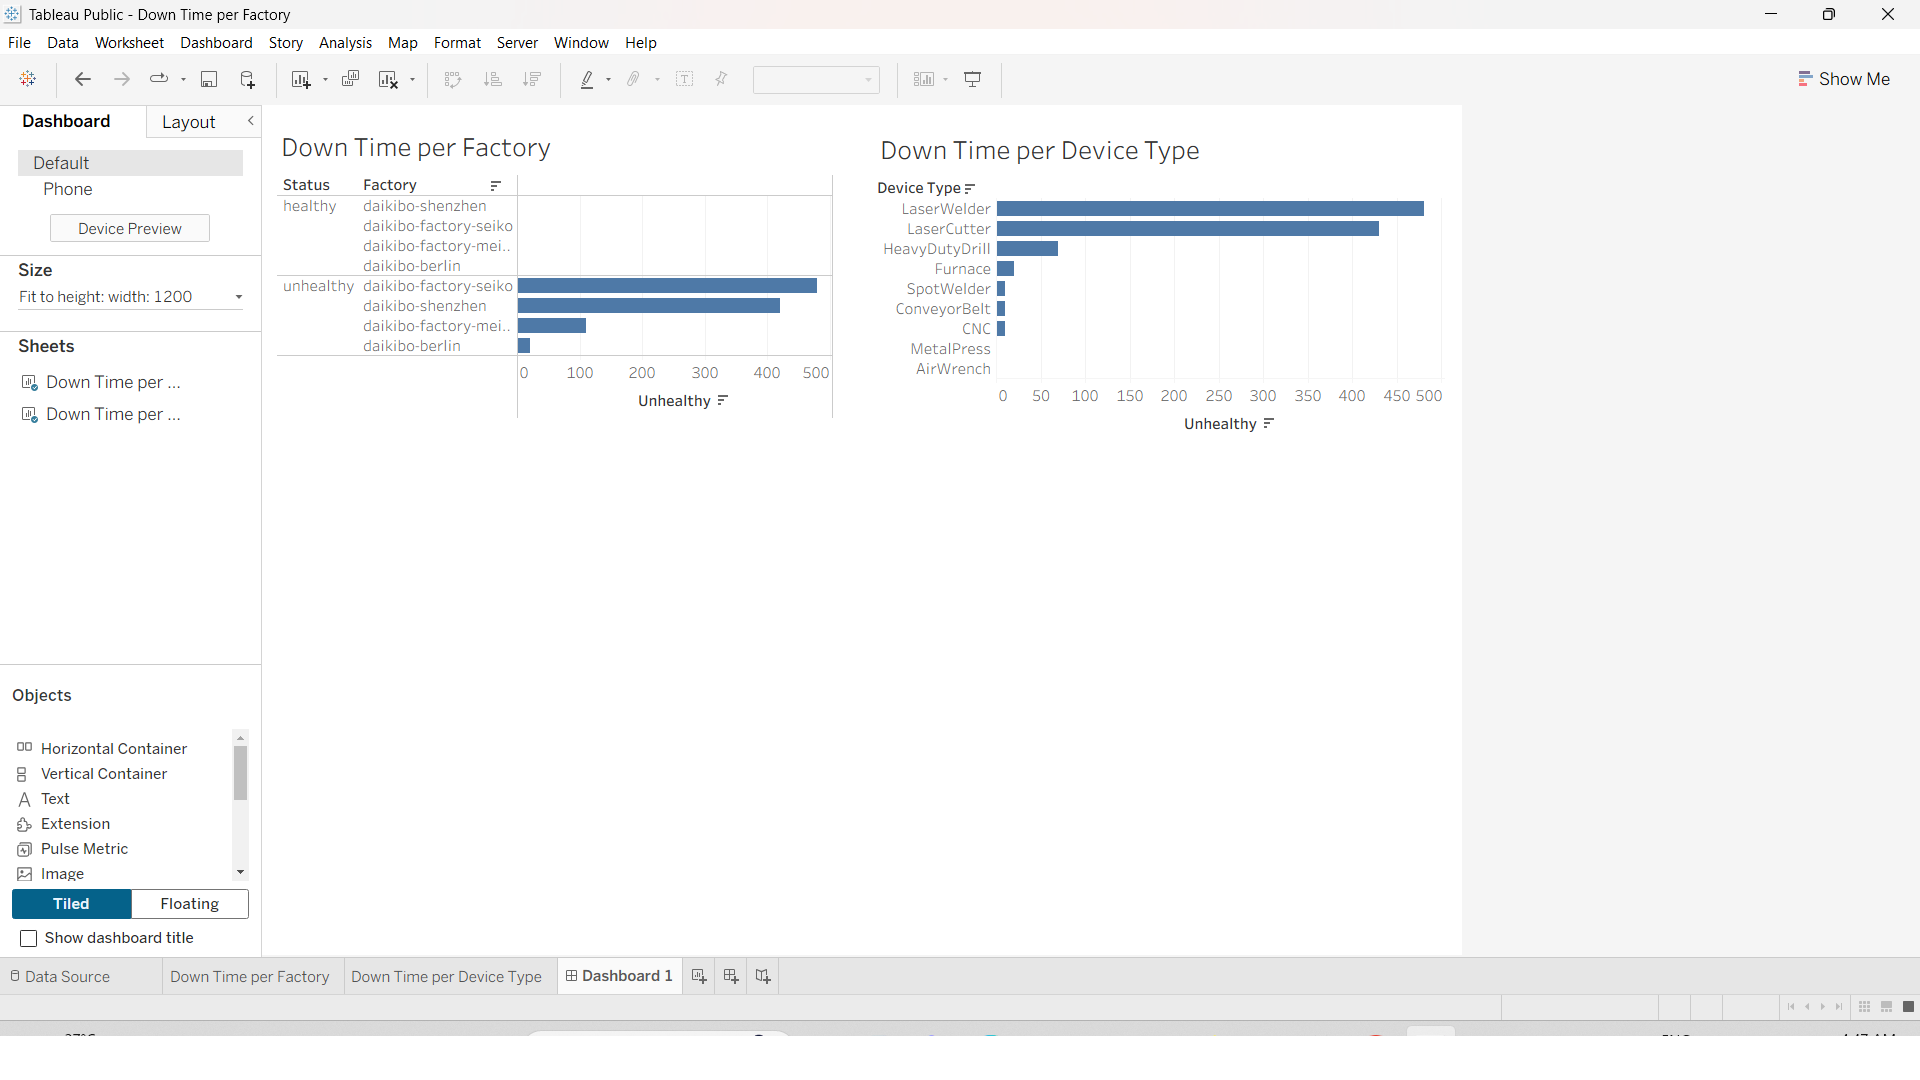

Layout of this report page (visuals, bound fields, positions):
{"tool":"tableau","page":{"name":"Dashboard 1","canvas":[1000,1000],"units":"permille","ordinal":0},"visuals":[{"type":"worksheet","title":"Down Time per Factory","mark":"Automatic","rows":["status","factory"],"cols":["Calculation_0586379904786433"],"box":[12.5,23.5,463.3,451.8]},{"type":"worksheet","title":"Down Time per Device Type","mark":"Automatic","rows":["deviceType"],"cols":["Calculation_0586379904786433"],"box":[511.7,27.1,474.2,447.1]}]}

Visuals, with their boxes on the dashboard's canvas, which has no fixed pixel size, in thousandths of its width and height (x1, y1, x2, y2). These are canvas units, not pixel positions in the 1920x1080 screenshot, which may show the page scaled, cropped or inside an application window:
"Down Time per Factory" worksheet: box(12, 24, 476, 475)
"Down Time per Device Type" worksheet: box(512, 27, 986, 474)
